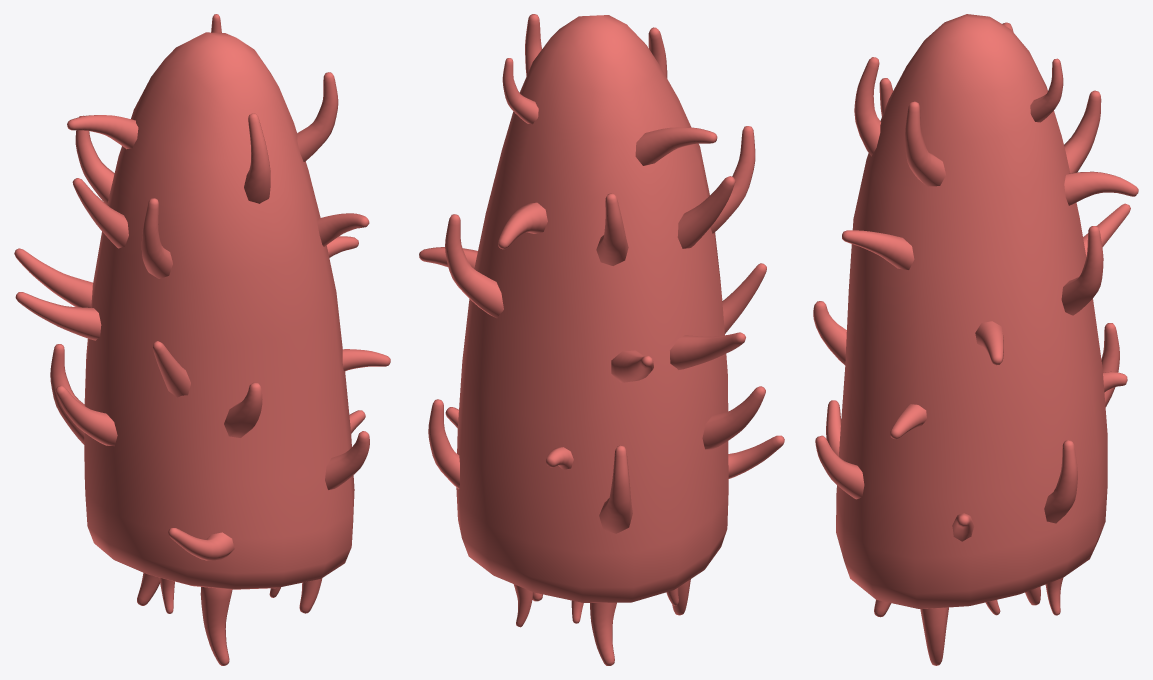
File: rabies_virus.fbx
The picture shows the model from 3 angles, left to right: view 1: azimuth 30°, elevation 25°; view 2: azimuth 150°, elevation 25°; view 3: azimuth 270°, elevation 25°; orthographic projection. The views are drawn at different scales.
Visible parts, largest first — view 1: rabies virus; view 2: rabies virus; view 3: rabies virus.
Boxes of the visible parts, x1,y1,x2,y2 form: rabies virus: [14, 14, 390, 665]; rabies virus: [419, 14, 784, 665]; rabies virus: [813, 14, 1138, 665].
Size of the model in its own units: 994 by 1722 by 824.
